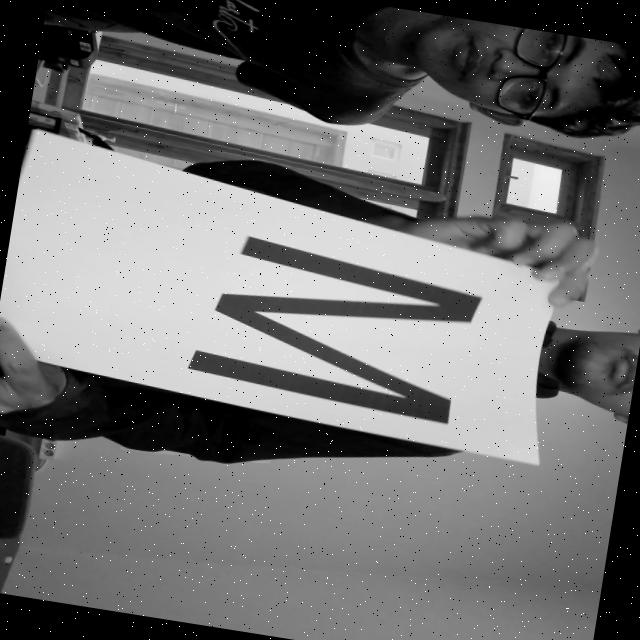m: (170, 223, 498, 431)
